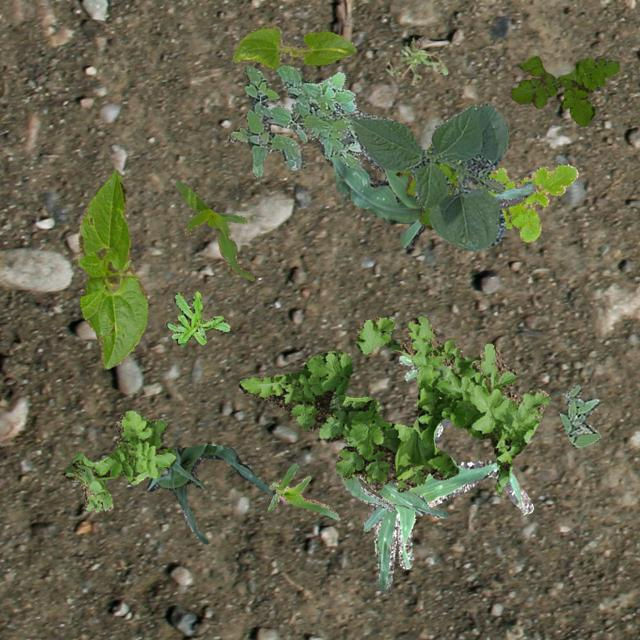crop: (362, 422, 532, 590), (314, 134, 534, 248), (348, 102, 507, 250), (76, 168, 146, 368), (146, 442, 274, 542), (174, 180, 253, 280), (339, 446, 446, 516), (232, 22, 356, 68), (268, 462, 338, 520)
weed: (236, 314, 550, 496), (226, 64, 362, 175), (61, 410, 176, 510), (508, 54, 618, 126), (487, 162, 578, 242), (394, 144, 456, 228), (164, 290, 228, 346), (383, 36, 448, 84), (558, 384, 600, 446), (398, 354, 418, 379)
